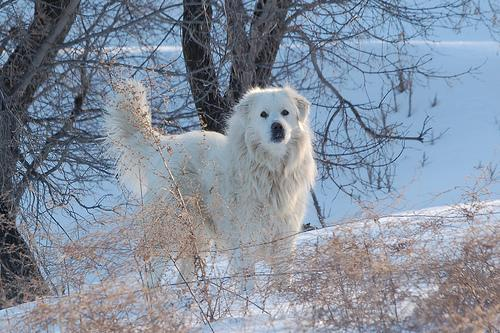Great_Pyrenees: (102, 81, 317, 298)
